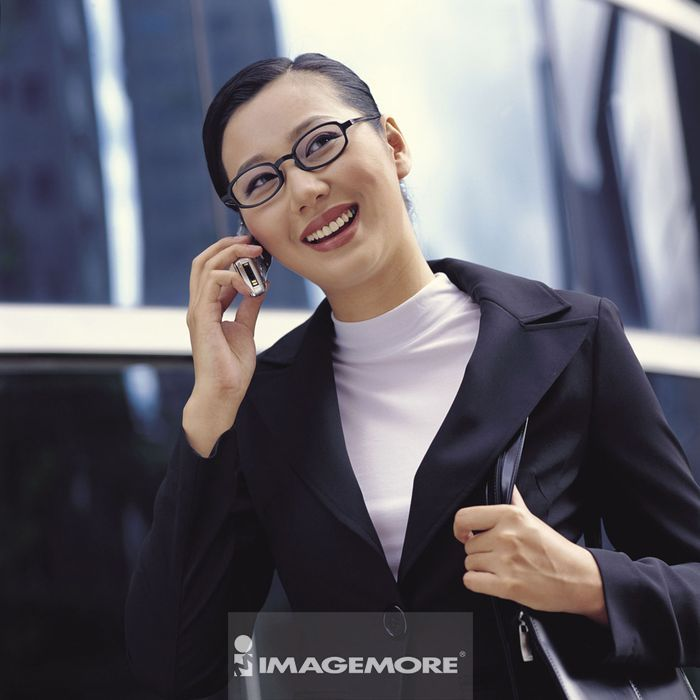talk: (186, 109, 380, 416)
